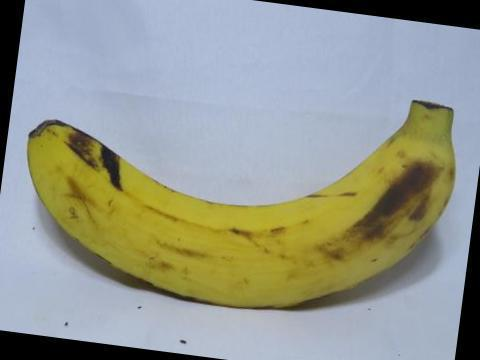ripe: (19, 75, 473, 321)
